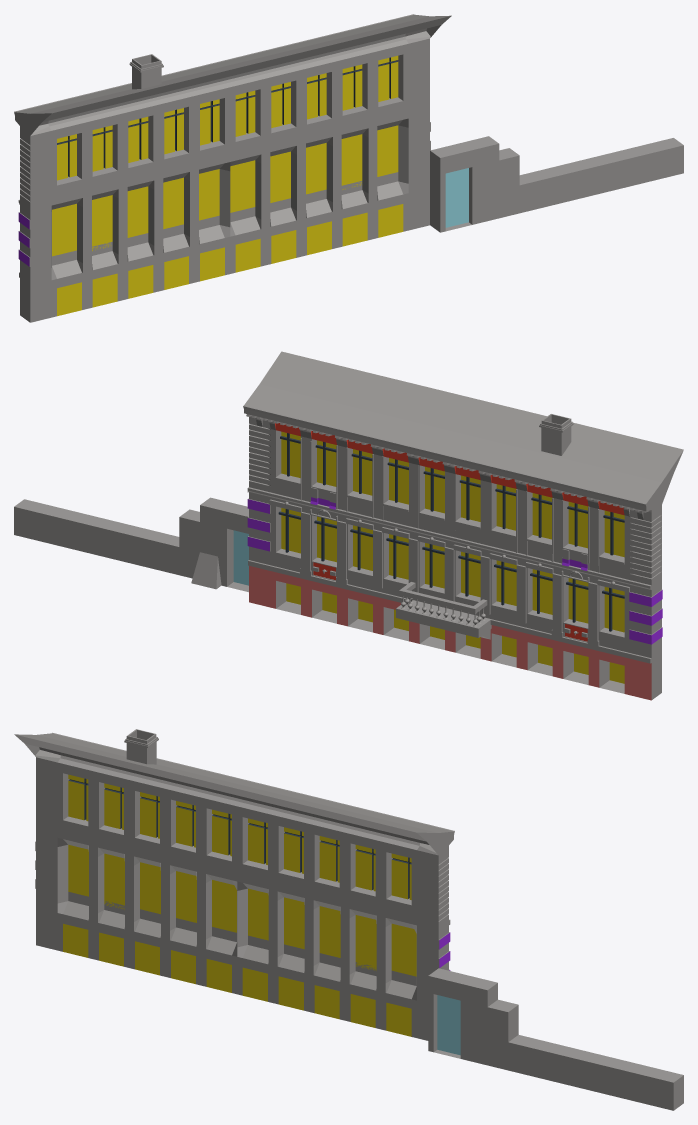
File: Дом Мишина Максима.fbx
3 renders of one model, top to bottom at view 1: azimuth 30°, elevation 25°; view 2: azimuth 150°, elevation 25°; view 3: azimuth 330°, elevation 25°, orthographic.
Parts seen in each view (by area): view 1: Cube; view 2: Cube; view 3: Cube.
Boxes of the visible parts, bbox=[...] form: Cube: bbox=[14, 14, 683, 322]; Cube: bbox=[14, 351, 683, 700]; Cube: bbox=[14, 729, 683, 1110].
Size of the model in its own units: 3609 by 1286 by 438.
